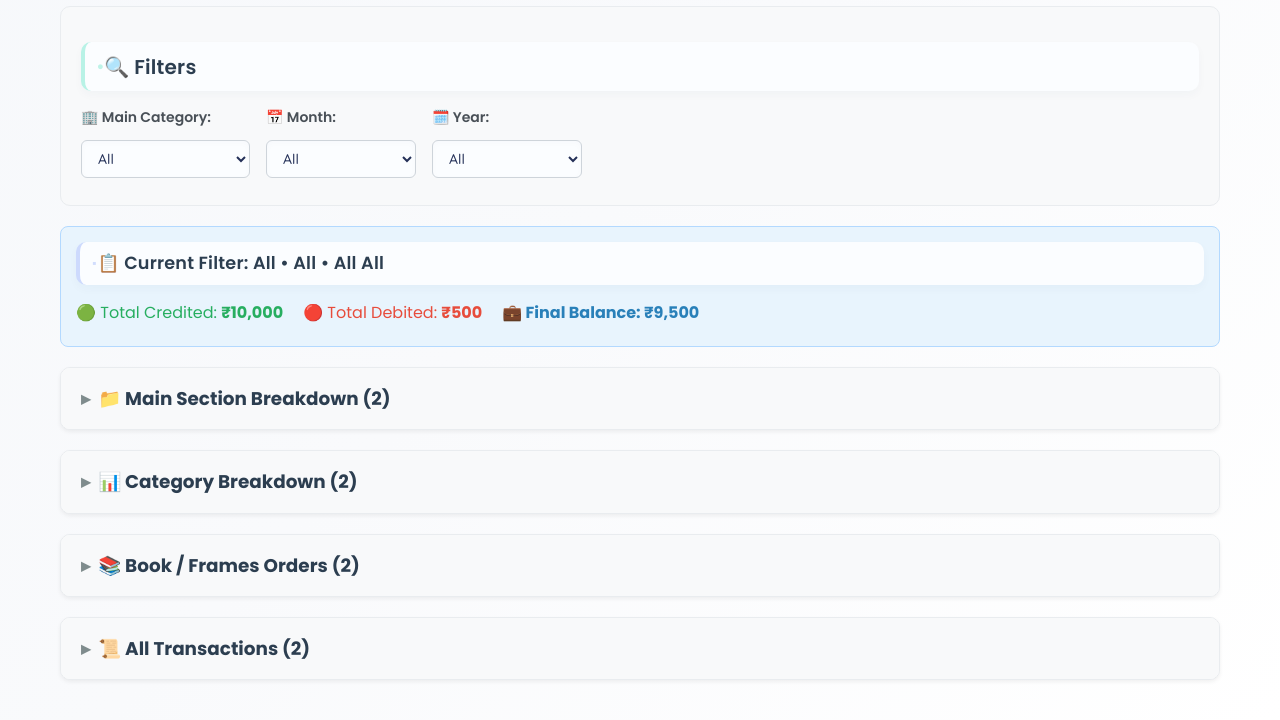
Test: All Transactions table is collapsed until its heading is clicked
(page scrolled)
Expected: the cell "Travel and Transport" is not shown
Click the text "📜 All Transactions (2)": (204, 649) [98,634,310,663]
(page scrolled)
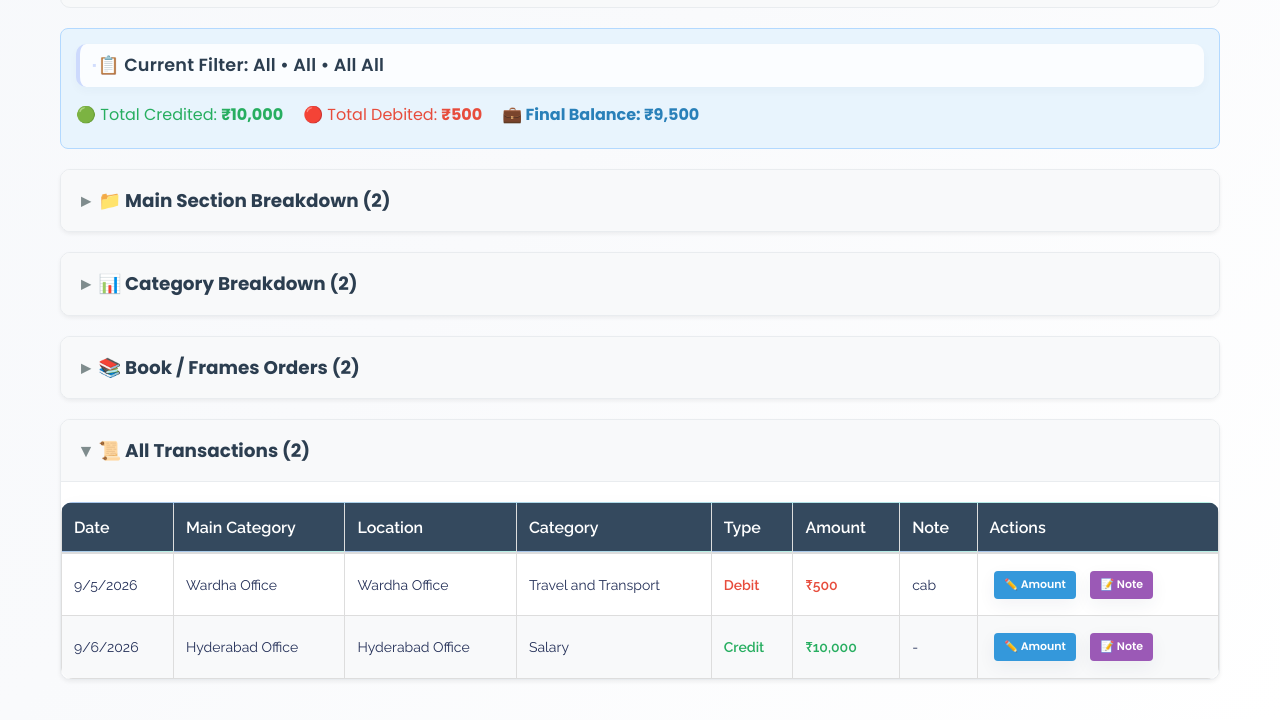
Now the cell "Travel and Transport" is shown, box [516,554,711,616]
